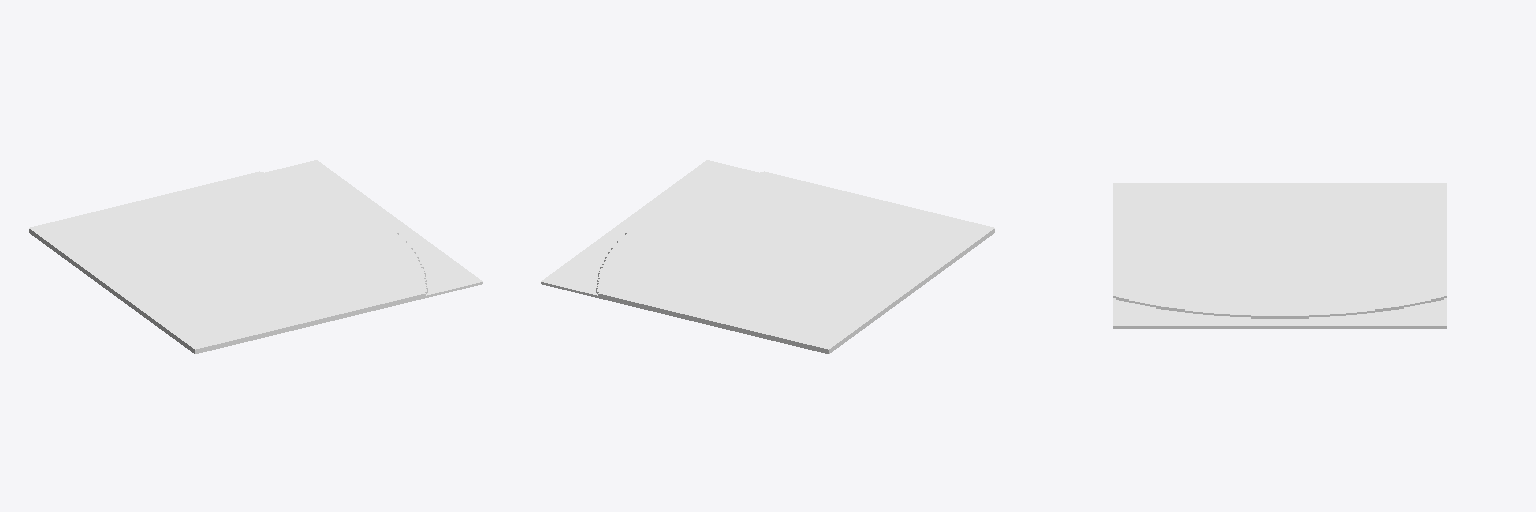
Rendered from erivaleCastle-3.obj.
The picture shows the model from 3 angles: view 1: azimuth 30°, elevation 25°; view 2: azimuth 150°, elevation 25°; view 3: azimuth 270°, elevation 25°; orthographic projection.
Parts seen in each view (by area): view 1: object 1; view 2: object 1; view 3: object 1.
Boxes of the visible parts, box(x1,y1,x2,y2) form: object 1: box(29, 160, 482, 353); object 1: box(541, 160, 994, 353); object 1: box(1113, 183, 1446, 328).
Bounding box in the file's own units: 12.6 × 0.2 × 12.6.